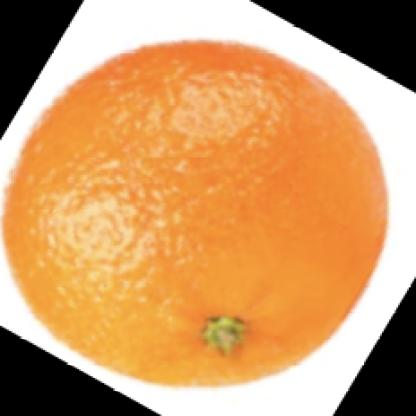fresh: (11, 41, 388, 386)
